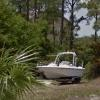Boat: (38, 47, 87, 89)
